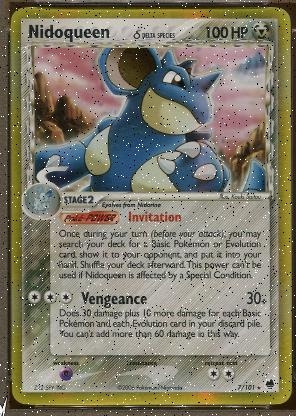Card: (9, 6, 293, 408)
